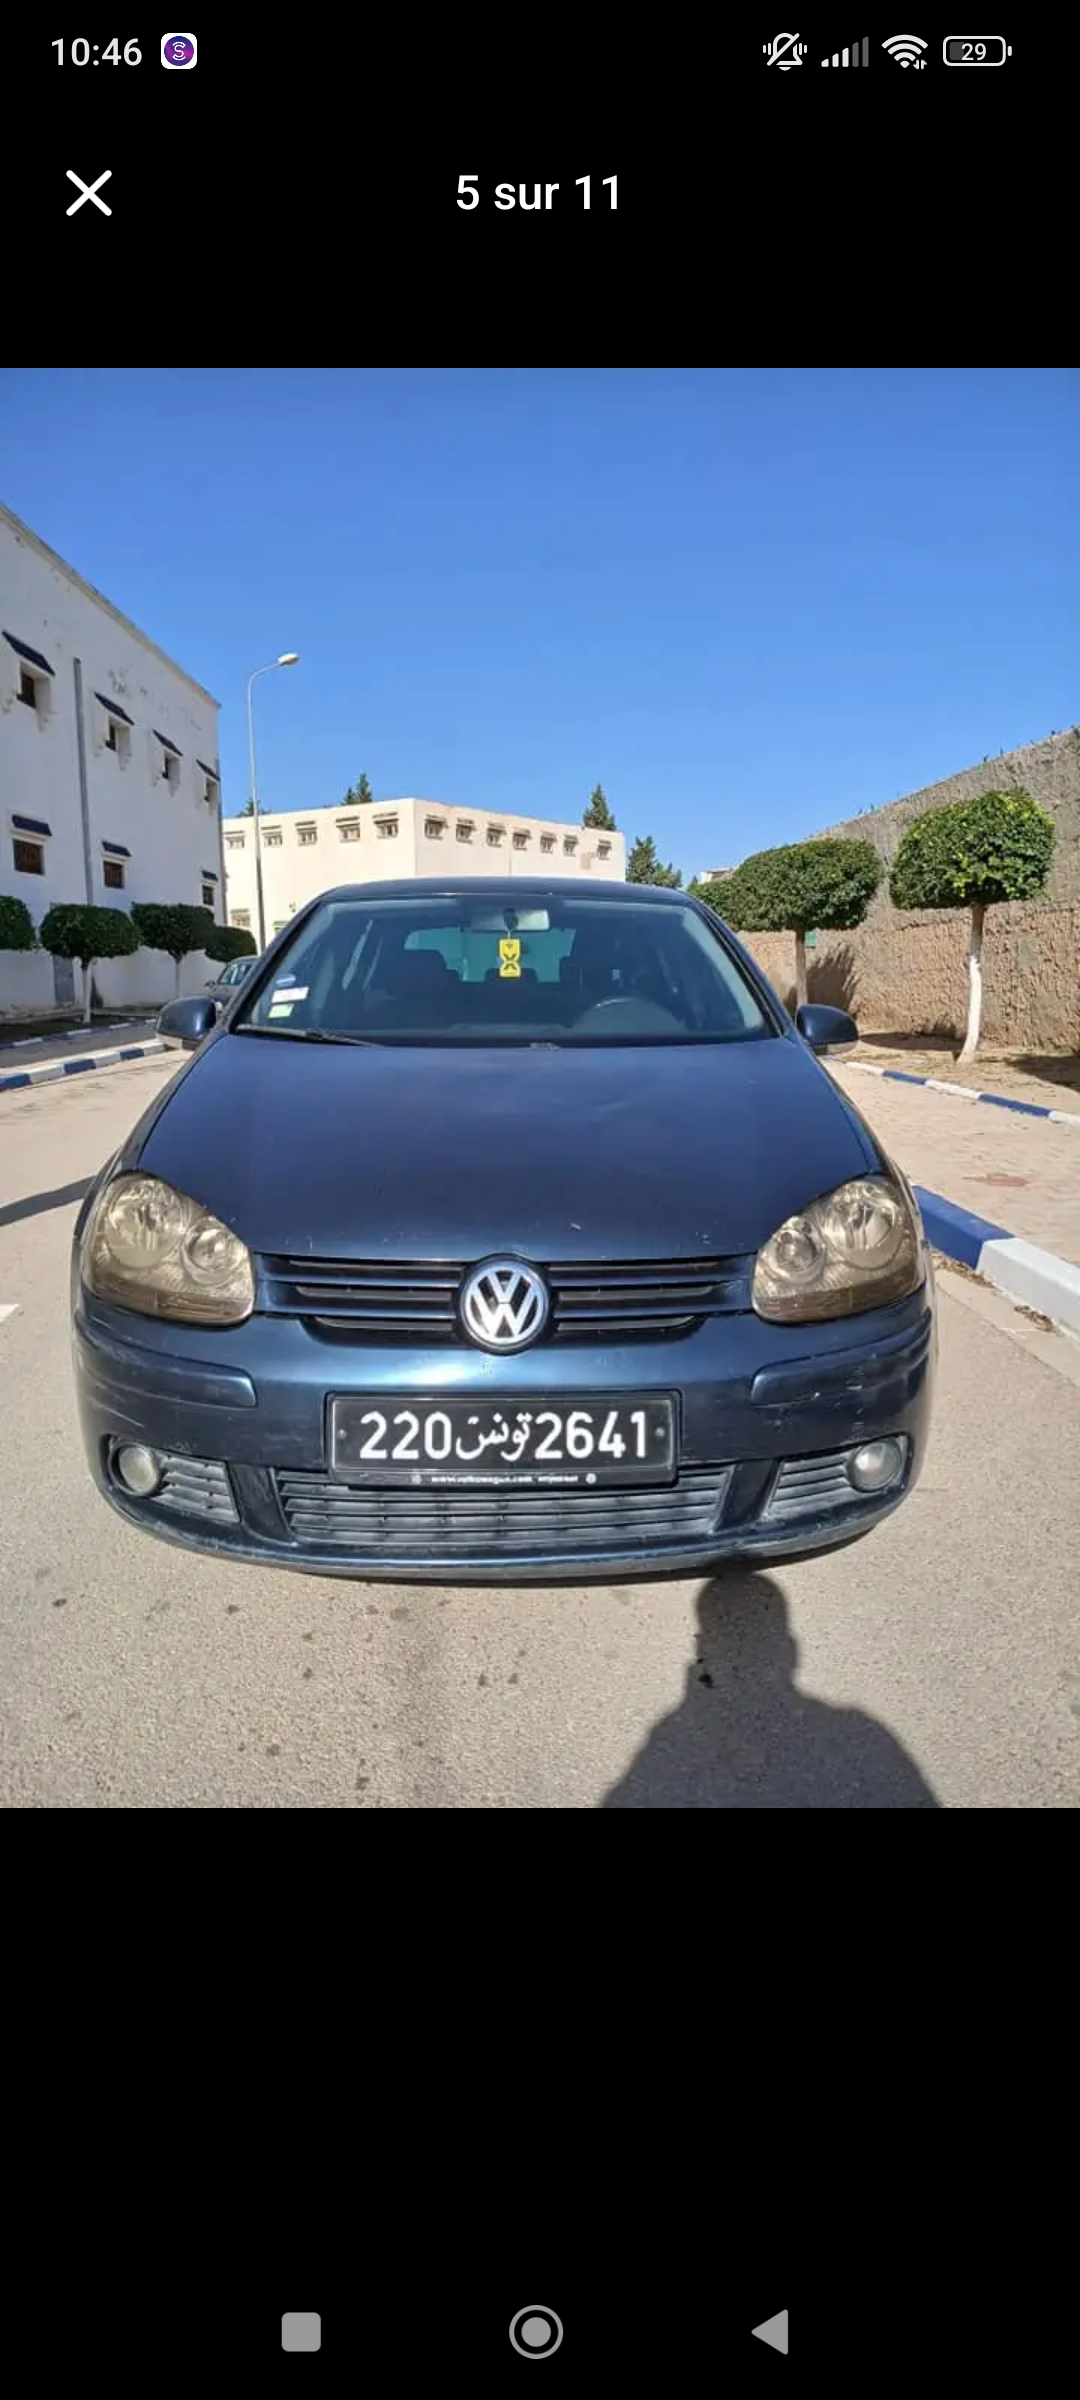volkswagen: (64, 876, 936, 1589)
